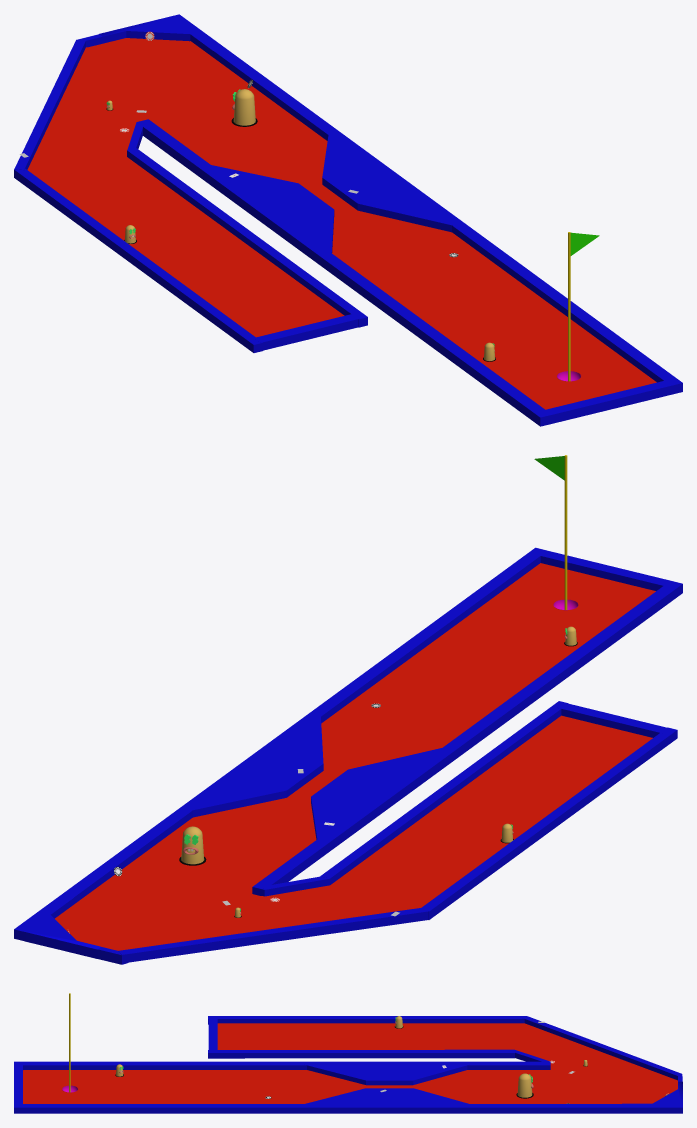
The model's file is minigolf.fbx.
The picture shows the model from 3 angles, top to bottom: view 1: azimuth 30°, elevation 25°; view 2: azimuth 150°, elevation 25°; view 3: azimuth 270°, elevation 25°; orthographic projection. The views are drawn at different scales.
Parts seen in each view (by area): view 1: Plane.001, $.003; view 2: Plane.001, $.003; view 3: Plane.001, $.003.
Part boxes in pixels (x1,y1,x2,y2): Plane.001: (14, 14, 682, 426); $.003: (231, 89, 257, 126); Plane.001: (14, 455, 682, 964); $.003: (179, 826, 206, 865); Plane.001: (14, 993, 682, 1113); $.003: (516, 1073, 533, 1098).
Bounding box in the file's own units: 452 × 233 × 1392.
